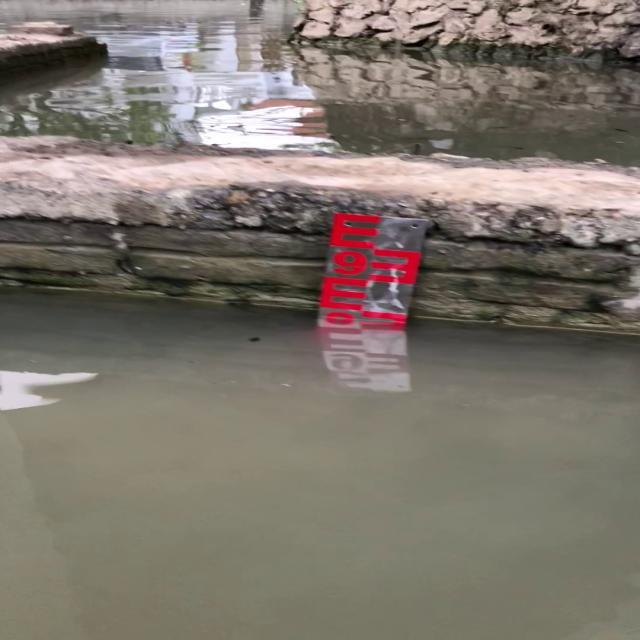ruler: (313, 203, 437, 335)
value: (327, 243, 372, 280)
